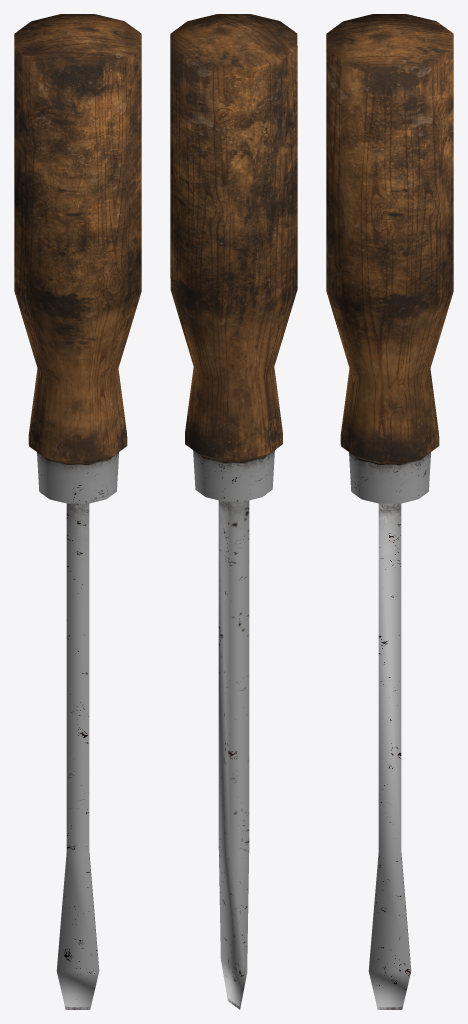
File: ScrewDriver.glb
The picture shows the model from 3 angles, left to right: view 1: azimuth 90°, elevation 25°; view 2: azimuth 210°, elevation 25°; view 3: azimuth 270°, elevation 25°; orthographic projection.
Parts seen in each view (by area): view 1: ScrewDriver; view 2: ScrewDriver; view 3: ScrewDriver.
Boxes of the visible parts, x1,y1,x2,y2 form: ScrewDriver: (14,14,141,1009); ScrewDriver: (170,14,297,1009); ScrewDriver: (326,14,453,1009).
Size of the model in its own units: 0.0191 by 0.1621 by 0.0191.
1 material, 1 textured.
